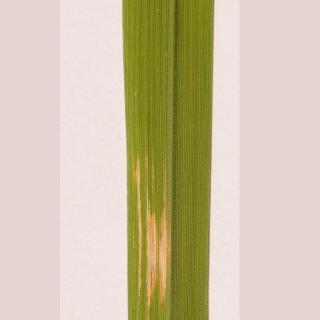Hawar-Daun: (129, 147, 179, 319)
